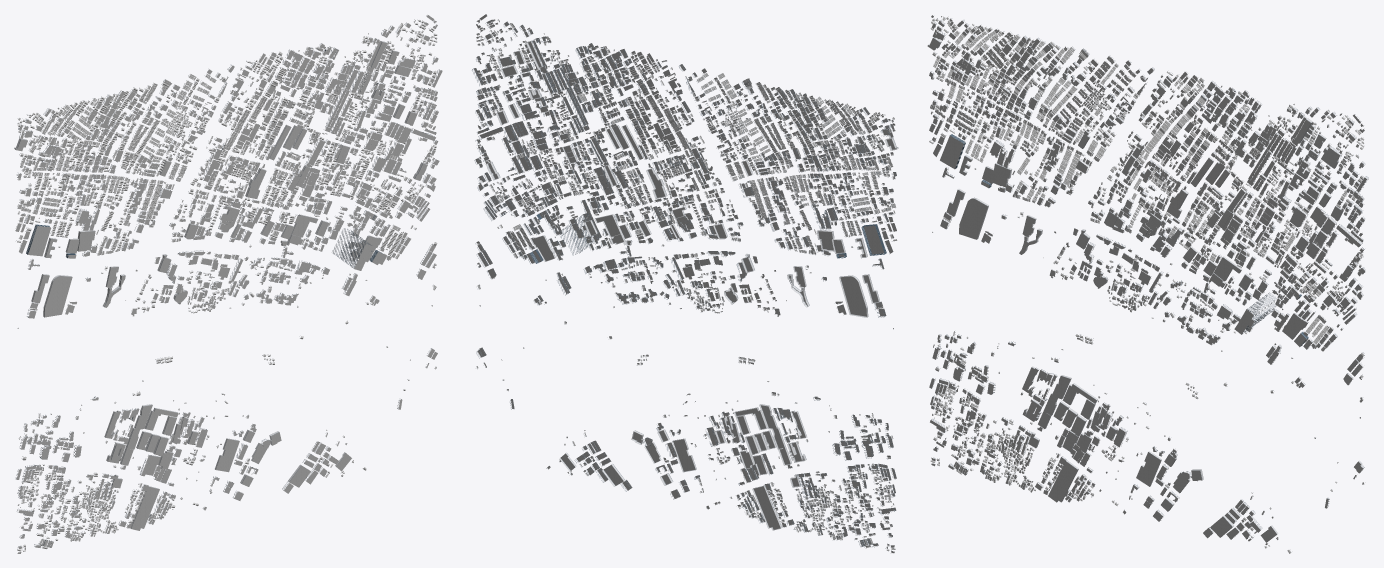
The model's file is buildings_3_4.obj.
The picture shows the model from 3 angles, left to right: view 1: azimuth 30°, elevation 25°; view 2: azimuth 150°, elevation 25°; view 3: azimuth 330°, elevation 25°; orthographic projection. The views are drawn at different scales.
Bounding box in the file's own units: 2041 × 2046 × 193.
Materials: 6 (6 with a texture image).
